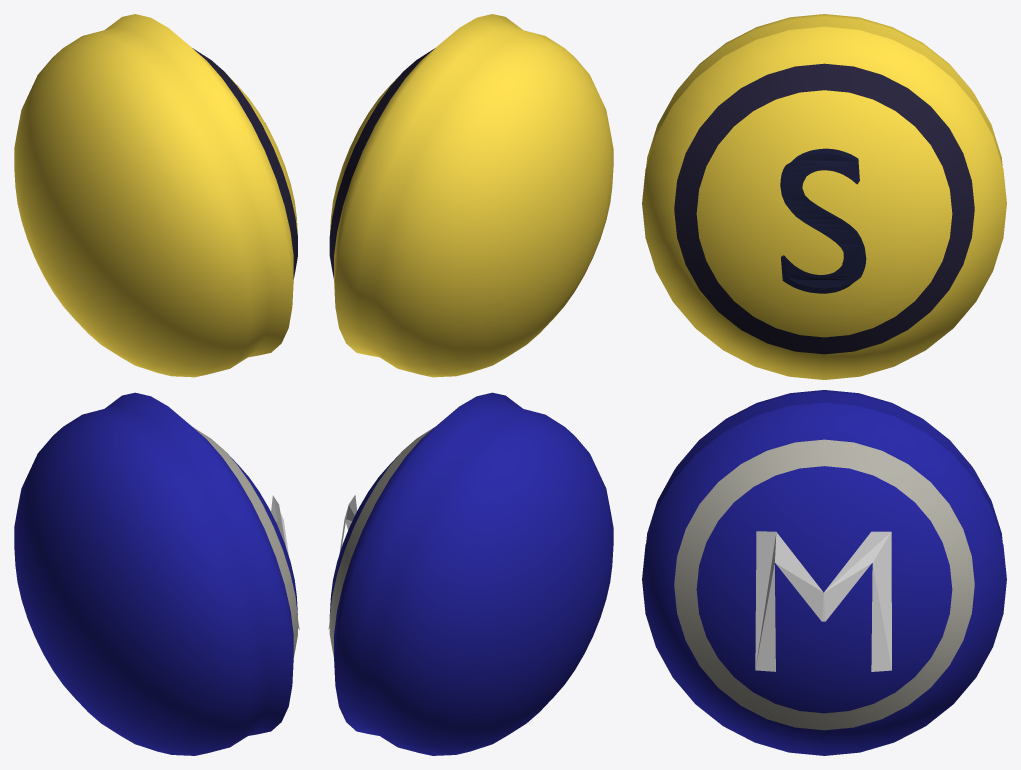
Rendered from Solo_Mute.fbx.
The picture shows the model from 3 angles, left to right: view 1: azimuth 30°, elevation 25°; view 2: azimuth 150°, elevation 25°; view 3: azimuth 270°, elevation 25°; orthographic projection.
Parts seen in each view (by area): view 1: Text.001, Text; view 2: Text.001, Text; view 3: Text, Text.001.
Part boxes in pixels (x1,y1,x2,y2): Text.001: [14, 392, 299, 755]; Text: [14, 14, 297, 377]; Text.001: [328, 392, 613, 755]; Text: [329, 14, 613, 377]; Text: [642, 14, 1006, 379]; Text.001: [642, 390, 1006, 755].
Bounding box in the file's own units: 120 × 169 × 362.
